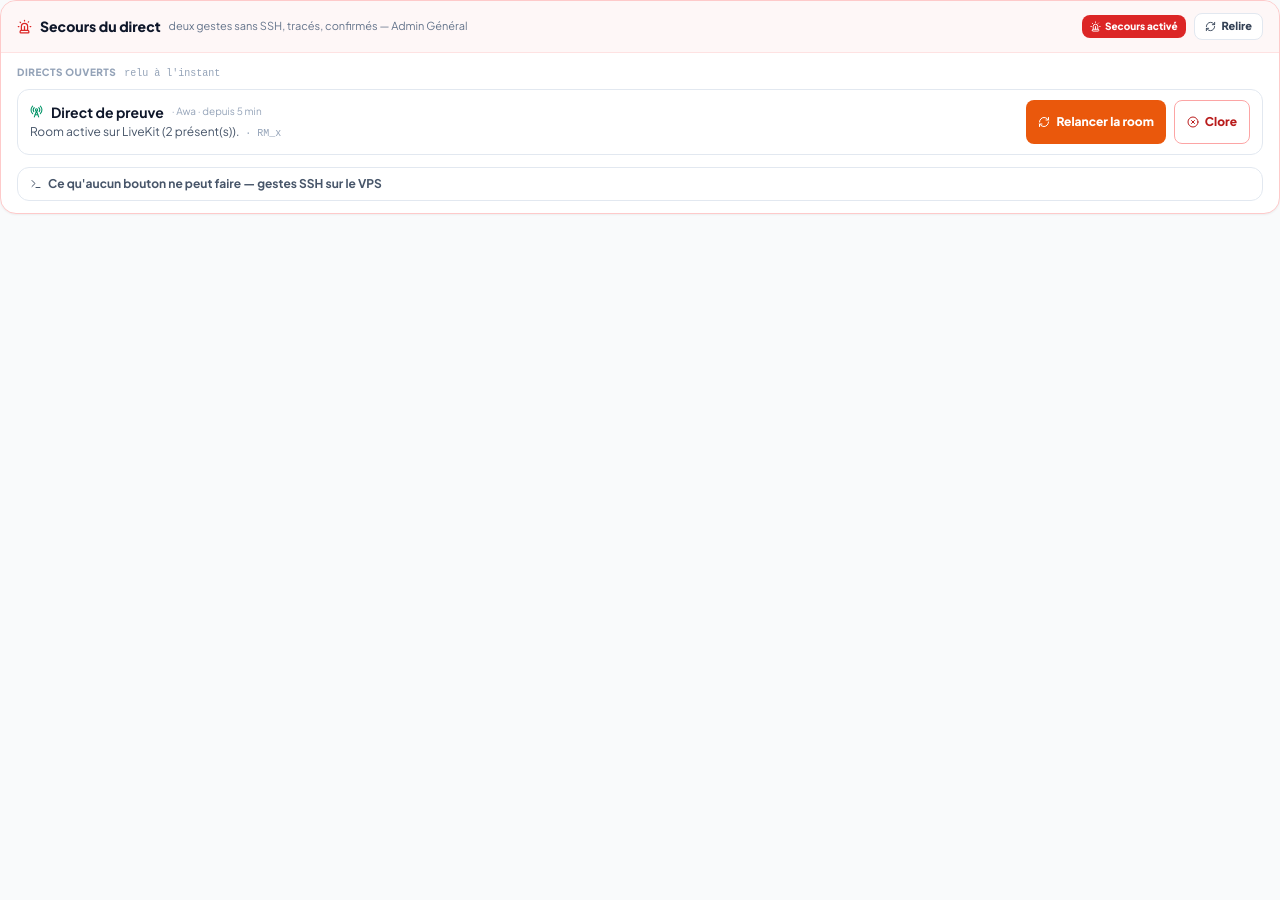
SAT-6 — panneau Secours du direct › après « Clore », aucune relecture différée : le direct a disparu de la liste, il n'y a rien à attendre
Expected: the text "Direct de preuve" is shown, [51, 102, 164, 122]
Click the button "Clore" at (1212, 122), box [1174, 100, 1250, 144]
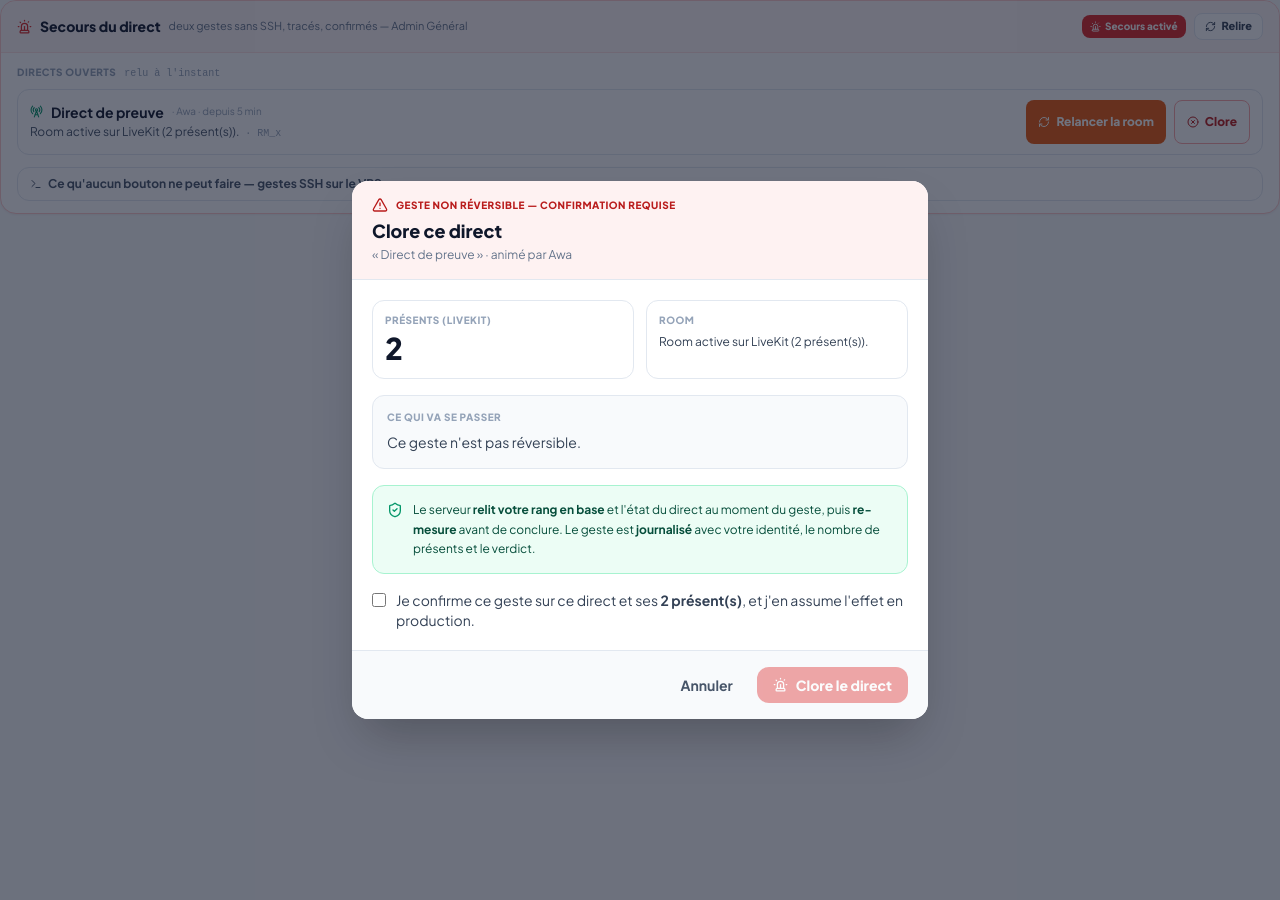
Result: the dialog with test id "live-emergency-modal" is shown
Click the checkbox with test id "live-emergency-accept" at (379, 600), box [372, 592, 386, 608]
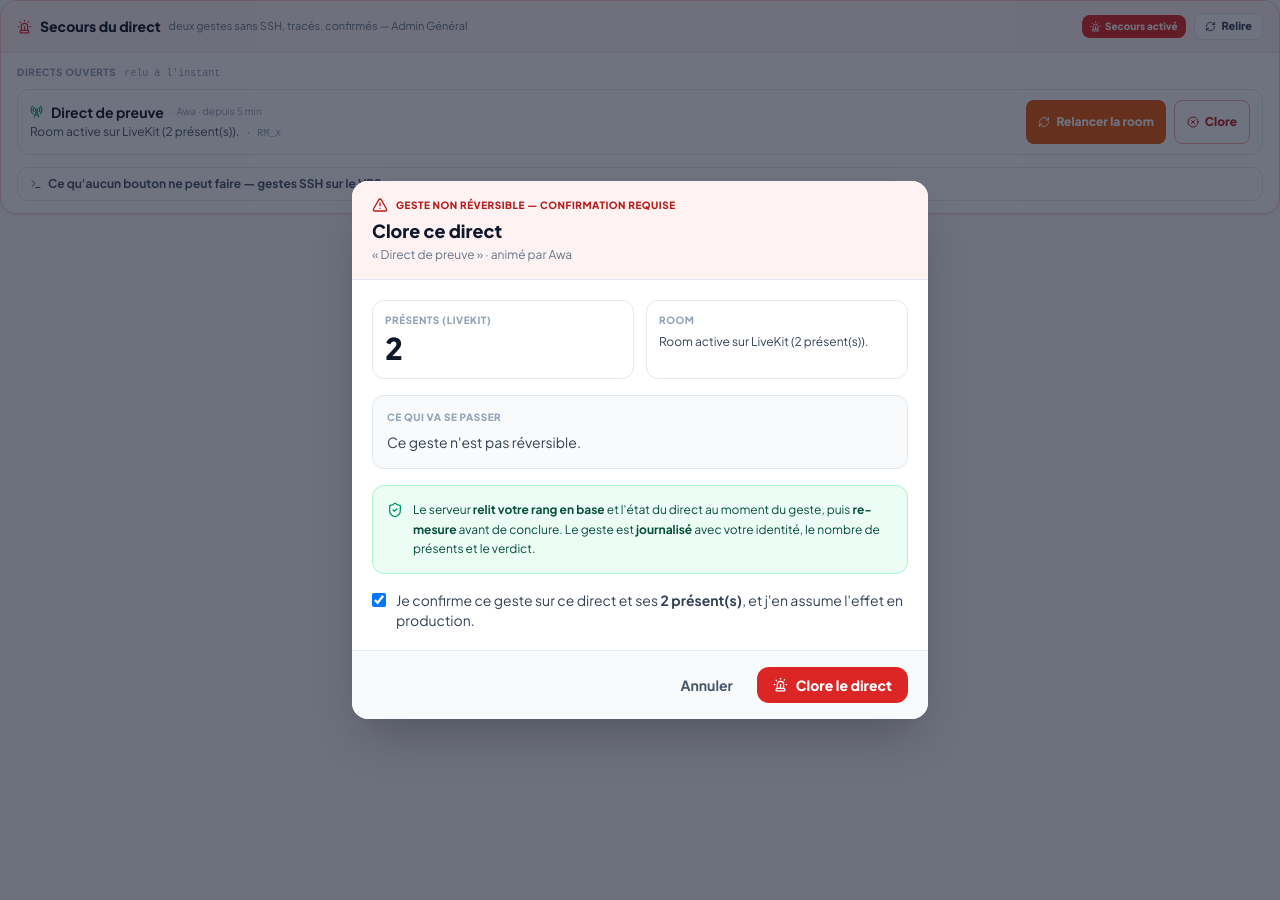
Click the button with test id "live-emergency-confirm" at (832, 685), box [757, 667, 908, 703]
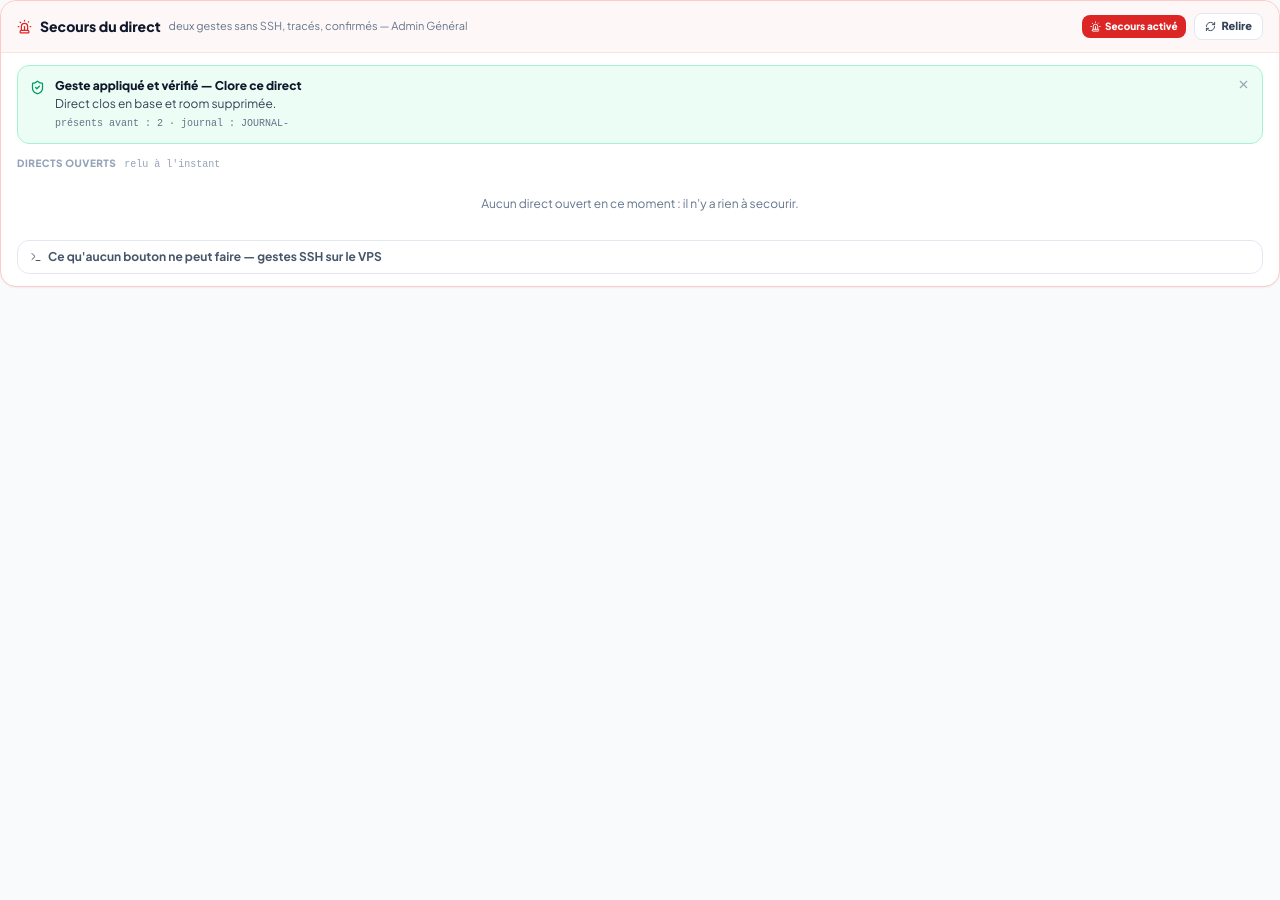
Result: the text "Aucun direct ouvert en ce moment : il n'y a rien à secourir." is shown at [481, 196, 799, 210]
